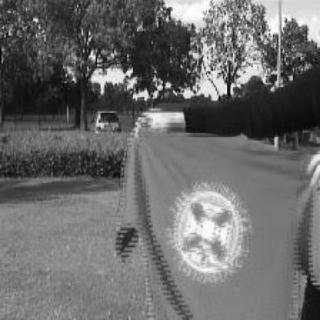other: (118, 122, 318, 314)
